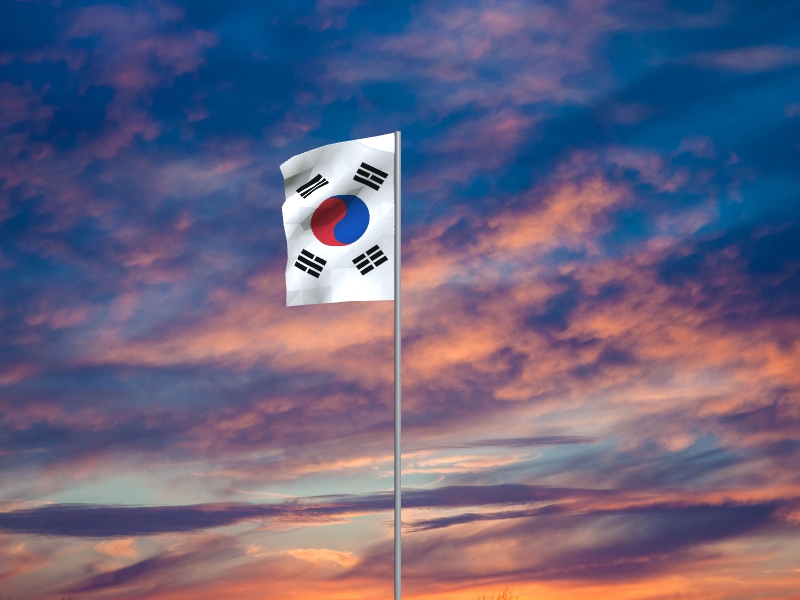kr: (279, 133, 395, 308)
